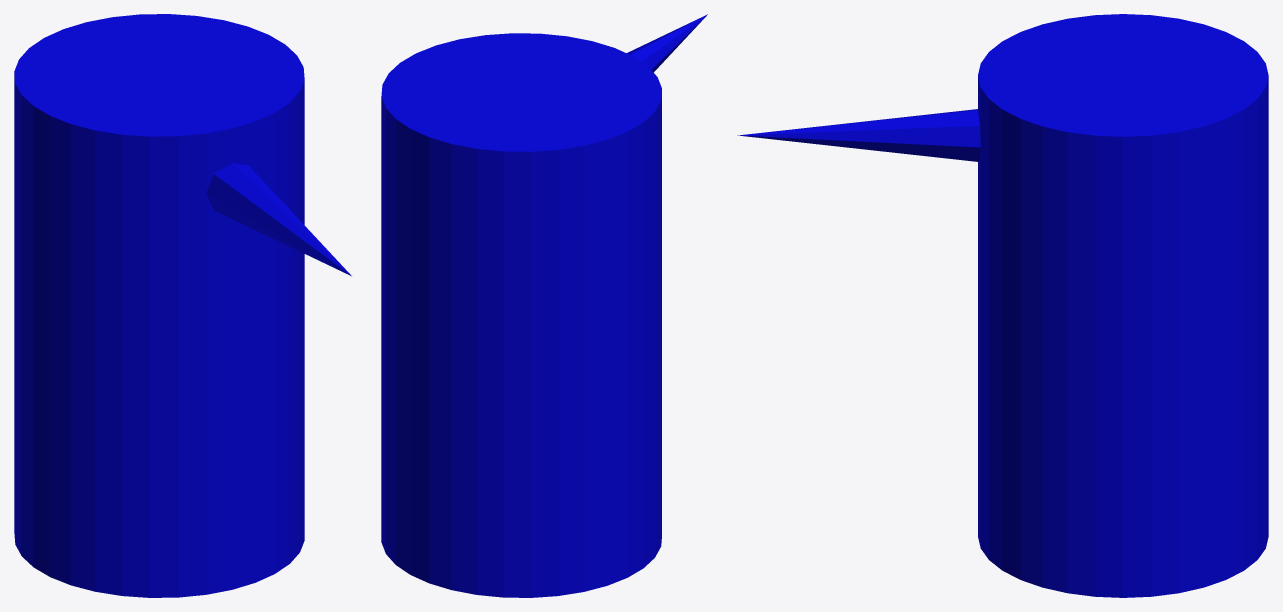
Rendered from blue-beak.fbx.
3 renders of one model, left to right at view 1: azimuth 30°, elevation 25°; view 2: azimuth 150°, elevation 25°; view 3: azimuth 270°, elevation 25°, orthographic. The views are drawn at different scales.
Visible parts, largest first — view 1: Cylinder; view 2: Cylinder; view 3: Cylinder.
Part boxes in pixels (x1=…): Cylinder: x1=14, y1=14, x2=351, y2=597; Cylinder: x1=381, y1=14, x2=707, y2=597; Cylinder: x1=737, y1=14, x2=1268, y2=597.
Size of the model in its own units: 100 by 175 by 183.
